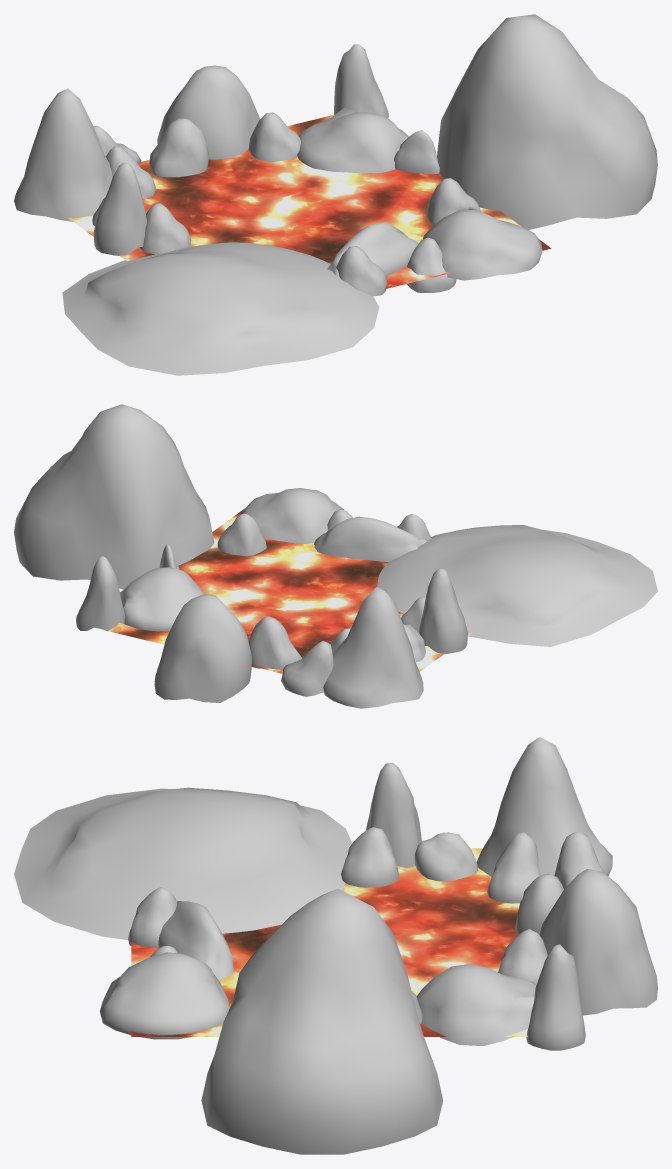
Rendered from LavaEnviroment.fbx.
The picture shows the model from 3 angles, top to bottom: view 1: azimuth 30°, elevation 25°; view 2: azimuth 150°, elevation 25°; view 3: azimuth 270°, elevation 25°; orthographic projection. The views are drawn at different scales.
Parts seen in each view (by area): view 1: Rocks, Lava; view 2: Rocks, Lava; view 3: Rocks, Lava.
Boxes of the visible parts, <box> form: Rocks: <box>14,14,657,375</box>; Lava: <box>68,115,551,289</box>; Rocks: <box>14,404,657,708</box>; Lava: <box>96,508,471,673</box>; Rocks: <box>14,737,657,1154</box>; Lava: <box>131,848,527,1036</box>.
Bounding box in the file's own units: 74.21 × 20.92 × 57.72.
